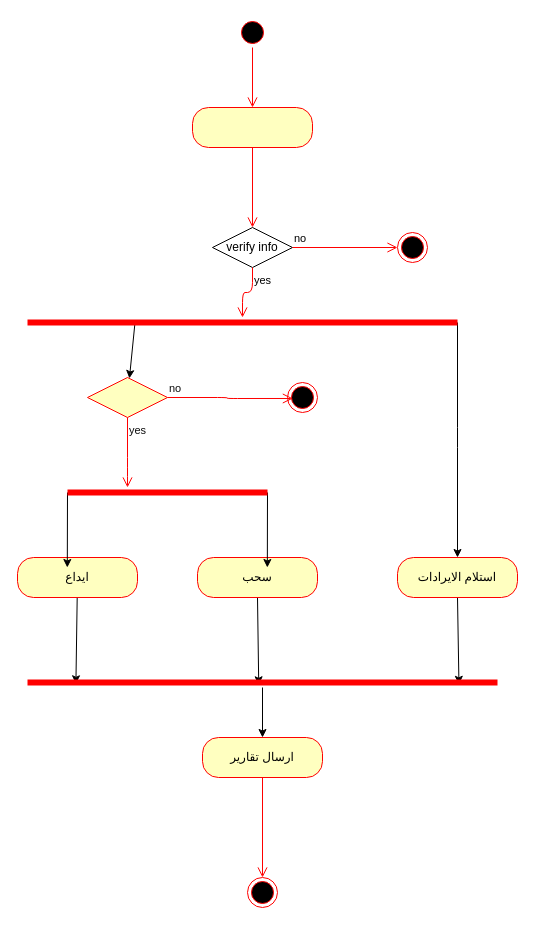
The diagram is 535 pixels wide and 925 high, and some of its shapes have lost their labels. The shapes that lost their labels are listed below. From the top down, each one's centre as x and y in pixels, then its label:
At (252,127): "Login".
At (127,397): "التحقق من هويه المستخدم".
